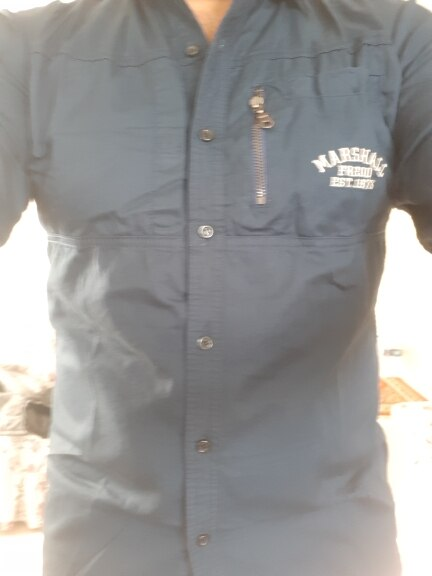shirts: (5, 4, 429, 576)
